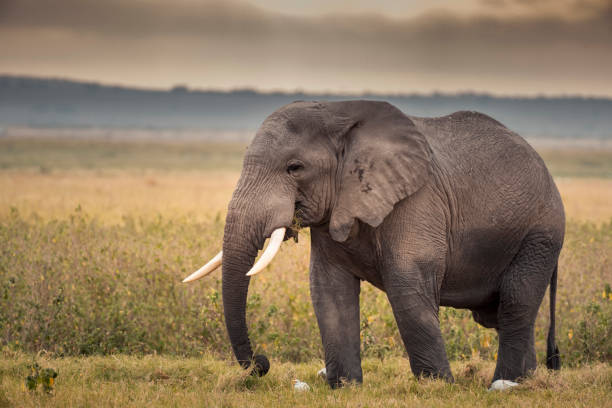africanelephant: (214, 98, 364, 261)
